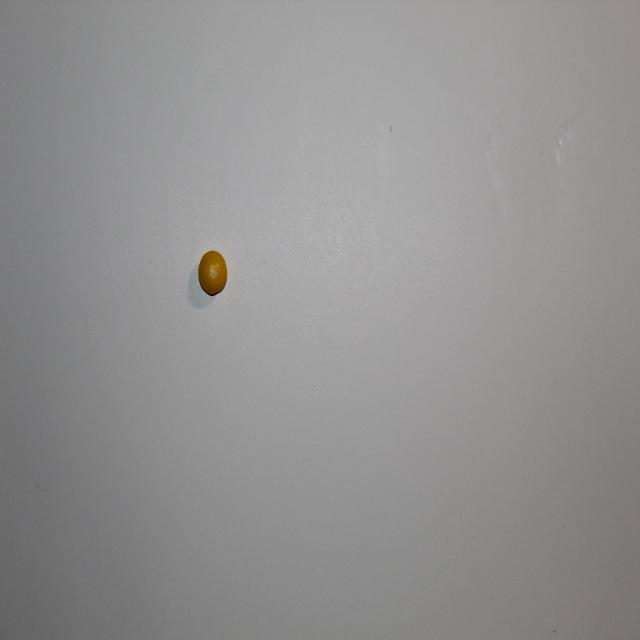smartie: (198, 250, 227, 295)
